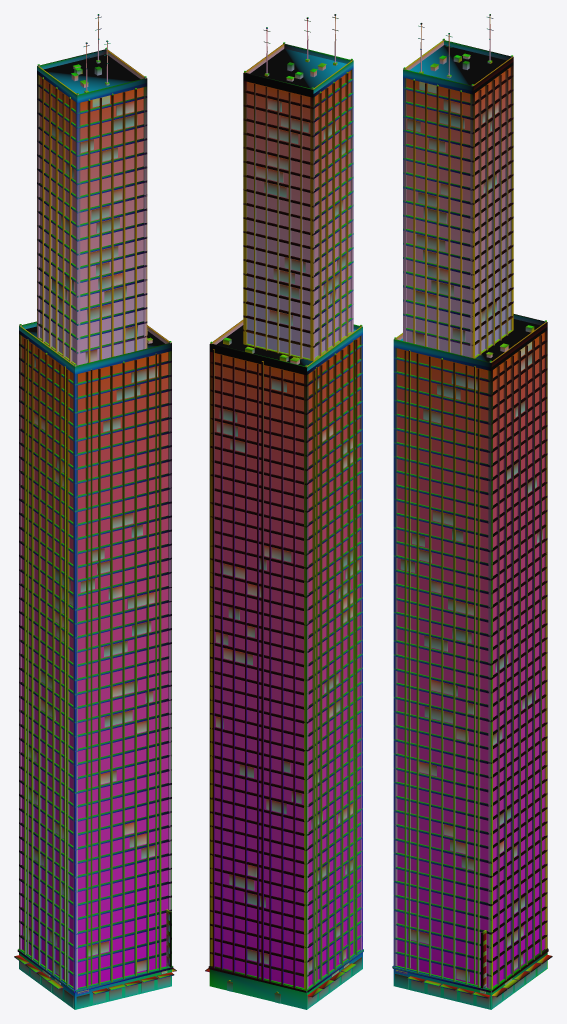
Rendered from Tower_Mast_V11.fbx.
The picture shows the model from 3 angles, left to right: view 1: azimuth 30°, elevation 25°; view 2: azimuth 150°, elevation 25°; view 3: azimuth 330°, elevation 25°; orthographic projection.
Parts seen in each view (by area): view 1: Tower_Mast_V11_LOD0; view 2: Tower_Mast_V11_LOD0; view 3: Tower_Mast_V11_LOD0.
Part boxes in pixels (x1,y1,x2,y2): Tower_Mast_V11_LOD0: [14, 14, 176, 1009]; Tower_Mast_V11_LOD0: [205, 14, 363, 1009]; Tower_Mast_V11_LOD0: [392, 14, 552, 1009].
Size of what is drawn, in the model's own units: 28.8 by 245 by 28.31.
